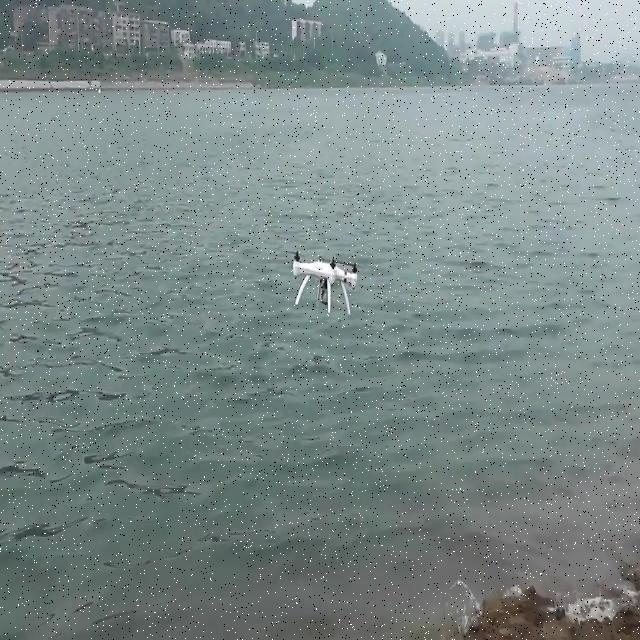UAV: (291, 246, 358, 318)
